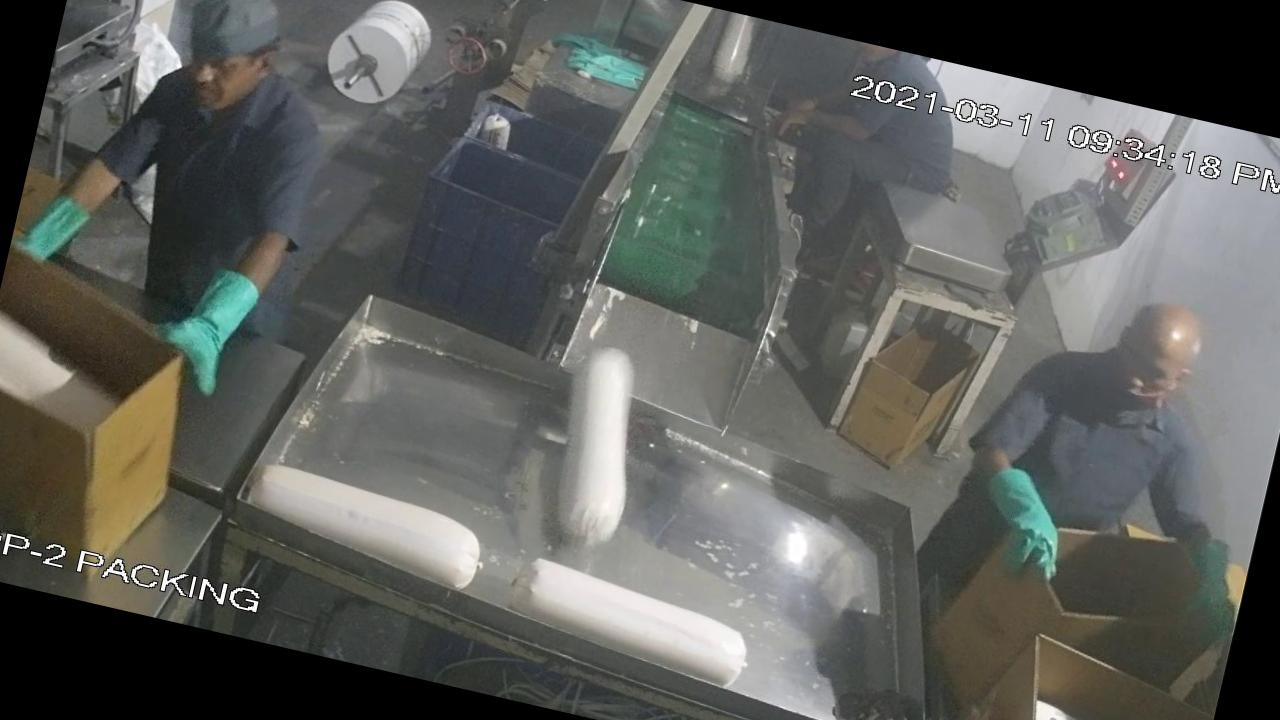Gloves: (153, 232, 287, 412), (977, 441, 1092, 588), (1170, 521, 1256, 647)
No-gloves: (760, 82, 876, 160)
